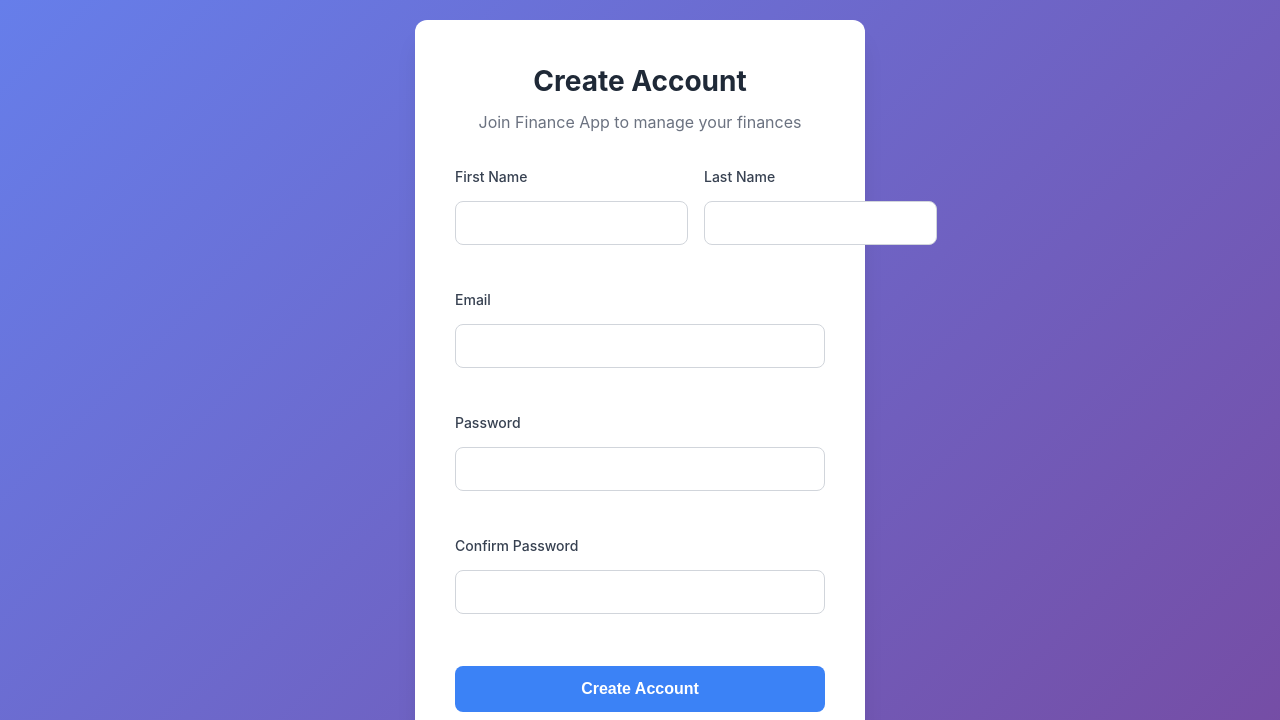
Test: Register Component › displays loading state during submission
# Fill form with valid data
Type "John" into the field labelled "First Name".
click(572, 223); type("John")  # box [455, 201, 688, 245]
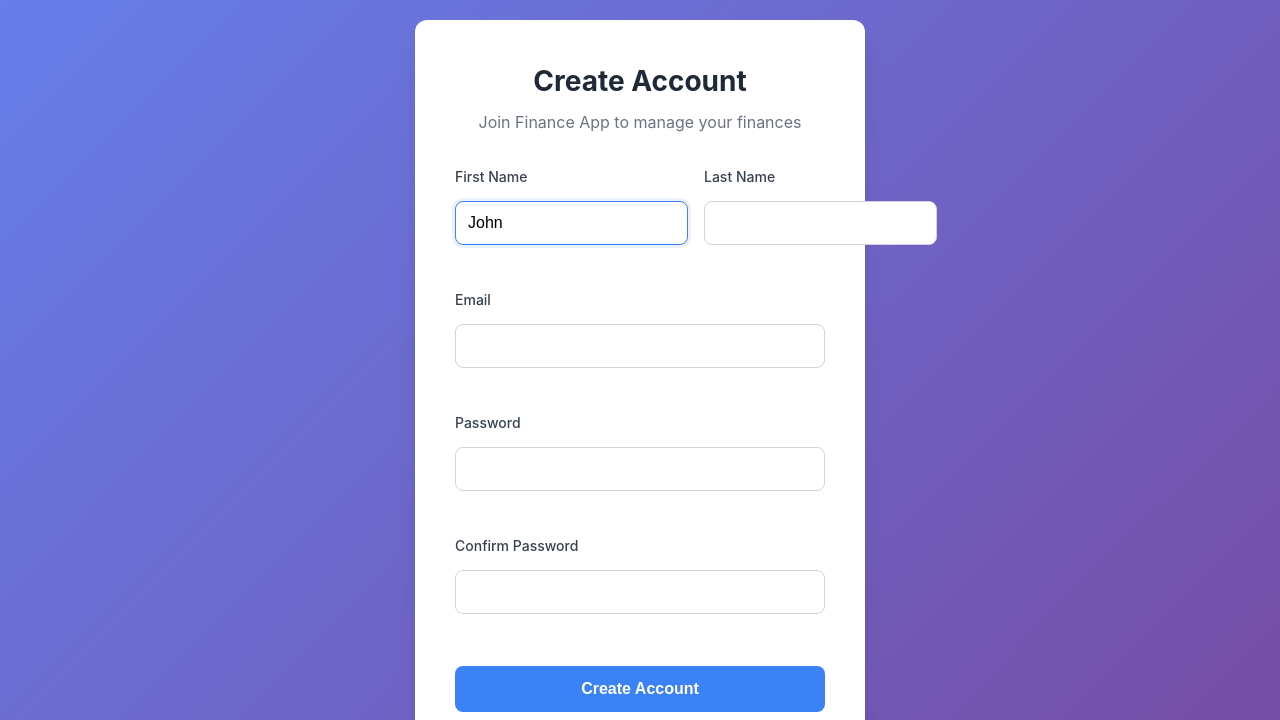
Type "Doe" into the field labelled "Last Name".
click(820, 223); type("Doe")  # box [704, 201, 937, 245]
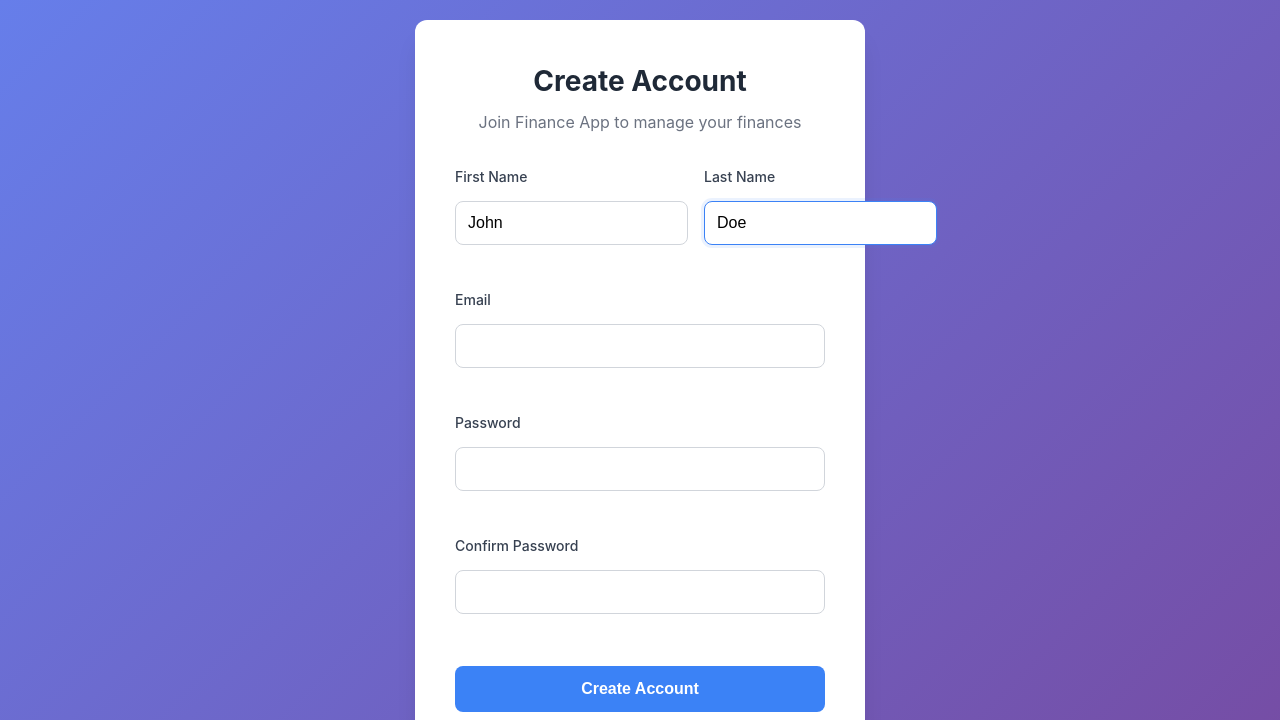
Type "john.doe@example.com" into the field labelled "Email".
click(640, 346); type("john.doe@example.com")  # box [455, 324, 825, 368]
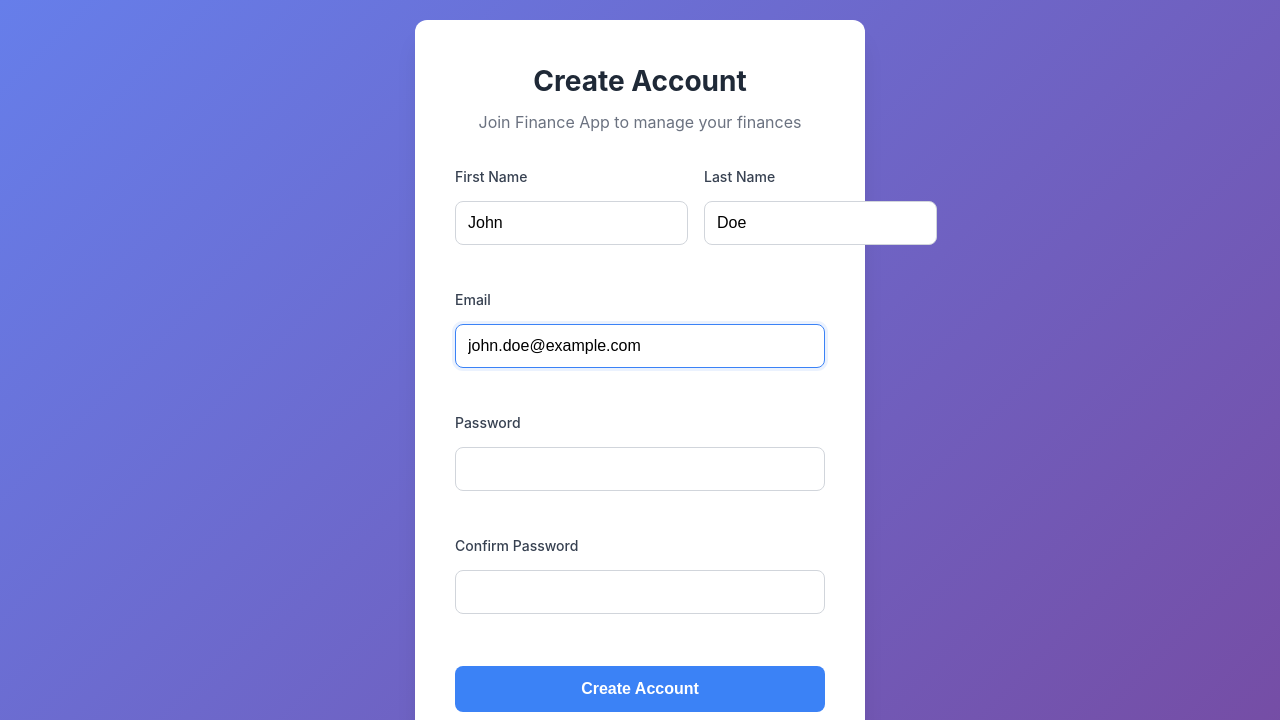
Type "Password123" into the password field labelled "Password".
click(640, 469); type("Password123")  # box [455, 447, 825, 491]
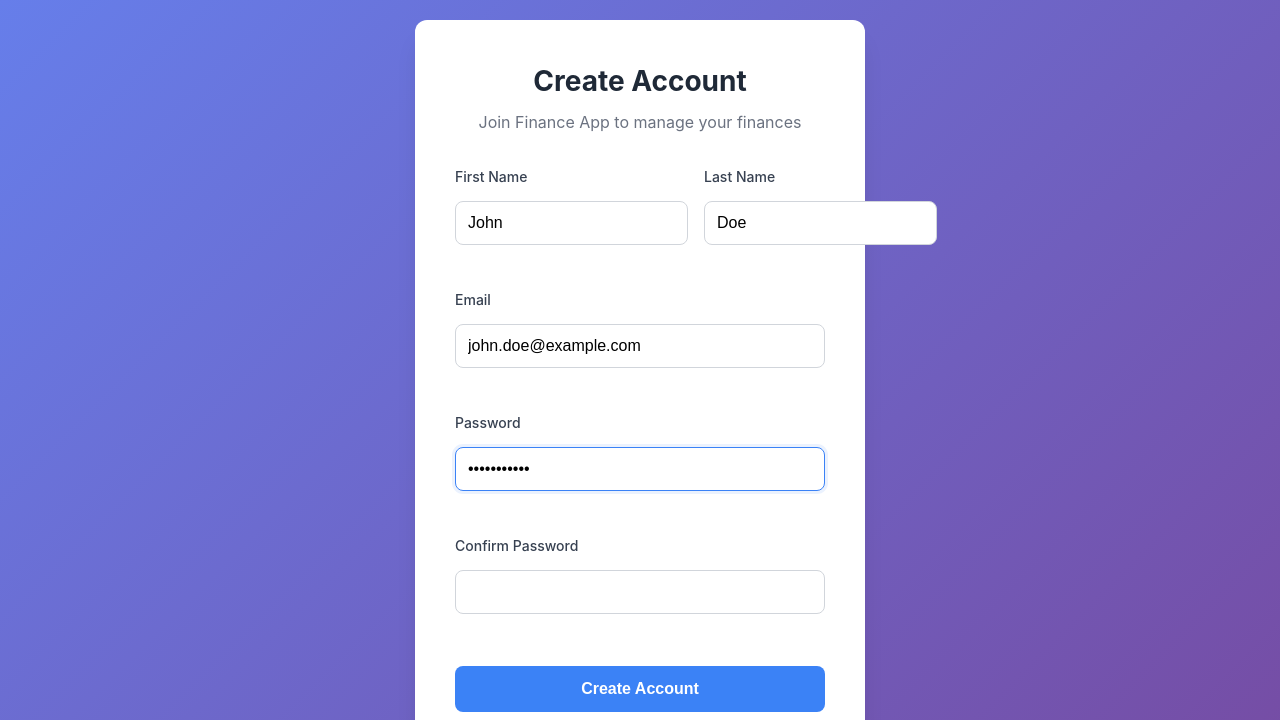
Type "Password123" into the password field labelled "Confirm Password".
click(640, 592); type("Password123")  # box [455, 570, 825, 614]
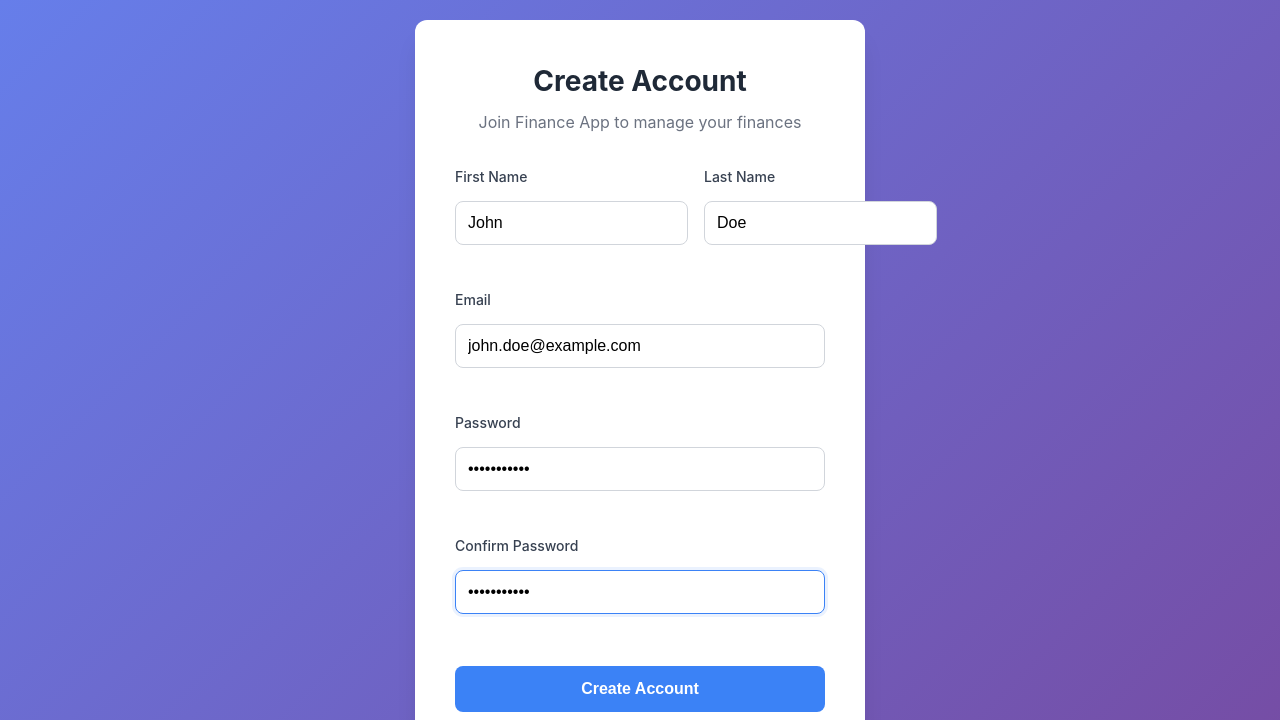
Click the button "Create Account".
click(640, 689)  # box [455, 666, 825, 712]
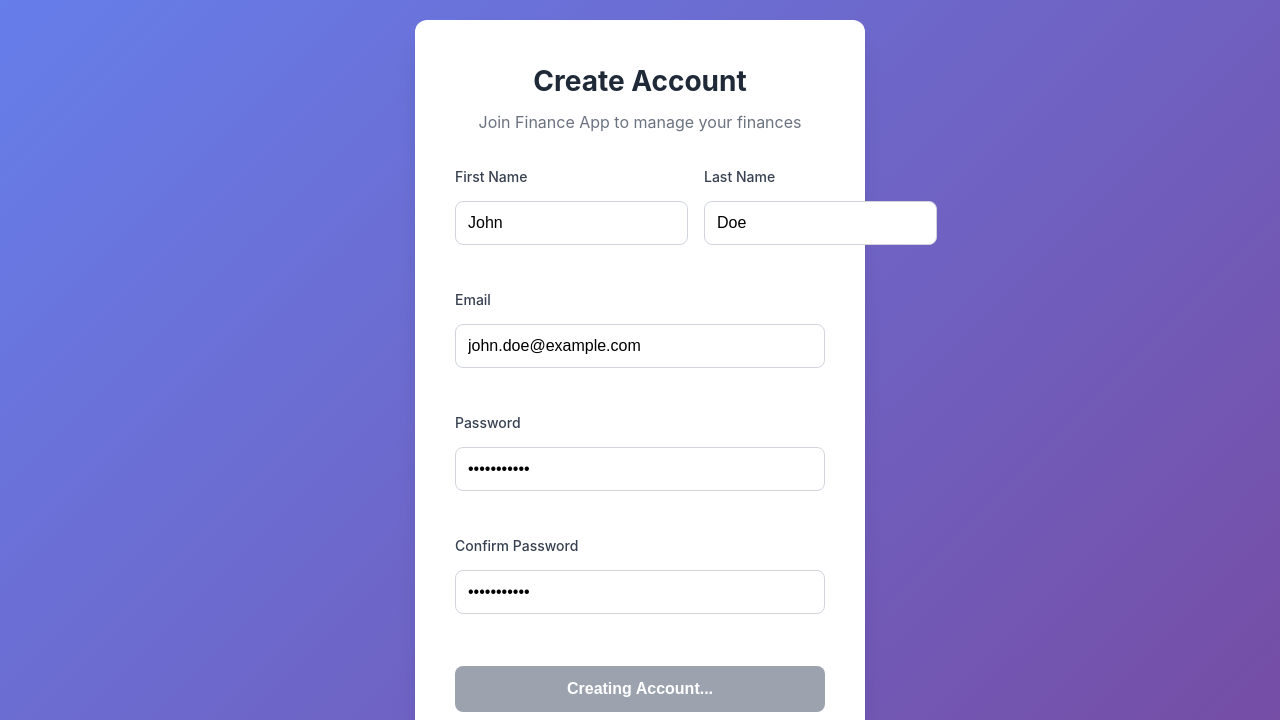
Result: the button "Creating Account..." is disabled at [455, 666, 825, 712]
